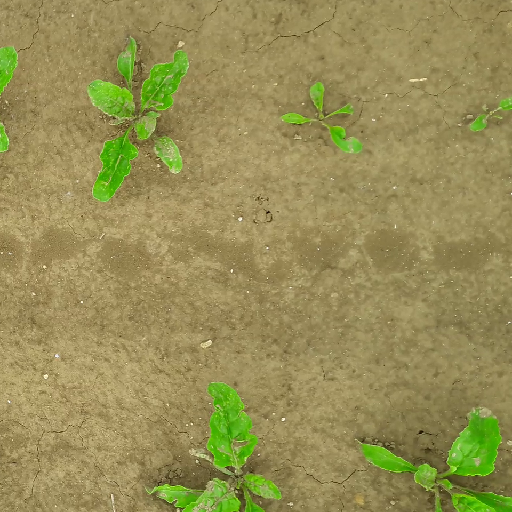sugarbeet: (80, 35, 201, 208), (138, 379, 285, 512), (357, 396, 512, 510), (275, 78, 371, 157), (466, 90, 512, 135)
